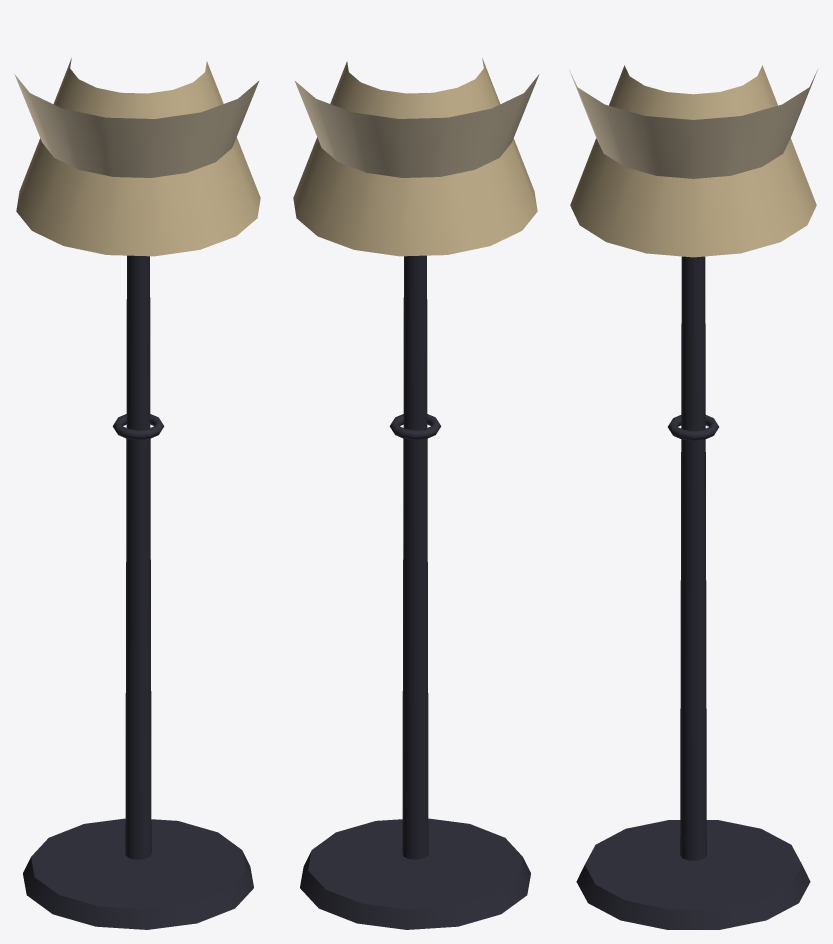
Rendered from floor-lamp.glb.
3 views of the same model, side by side, from view 1: azimuth 30°, elevation 25°; view 2: azimuth 150°, elevation 25°; view 3: azimuth 270°, elevation 25° (orthographic).
Size of the model in its own units: 0.6 by 2.16 by 0.6.
